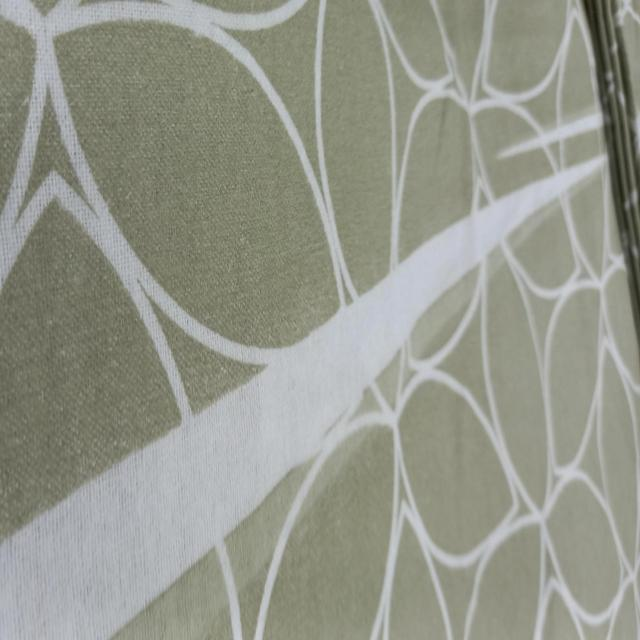selvet: (3, 421, 252, 640), (253, 248, 450, 494), (450, 150, 611, 274)
